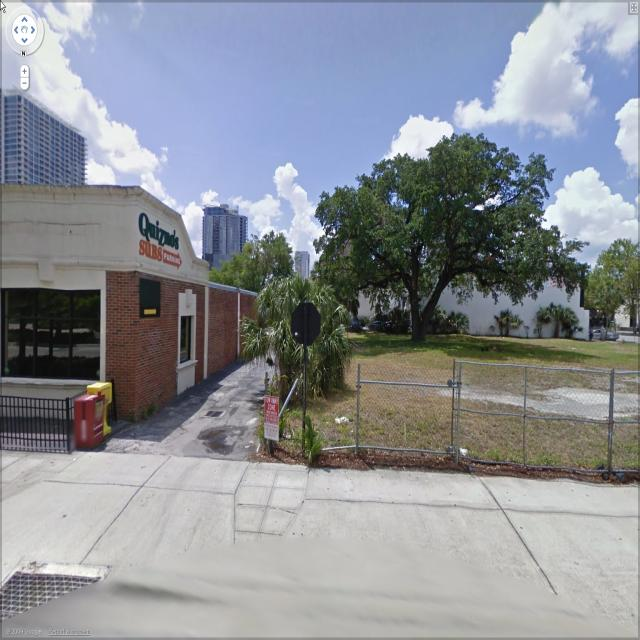b_1: (1, 183, 268, 374), (0, 100, 86, 180), (200, 196, 252, 273)
